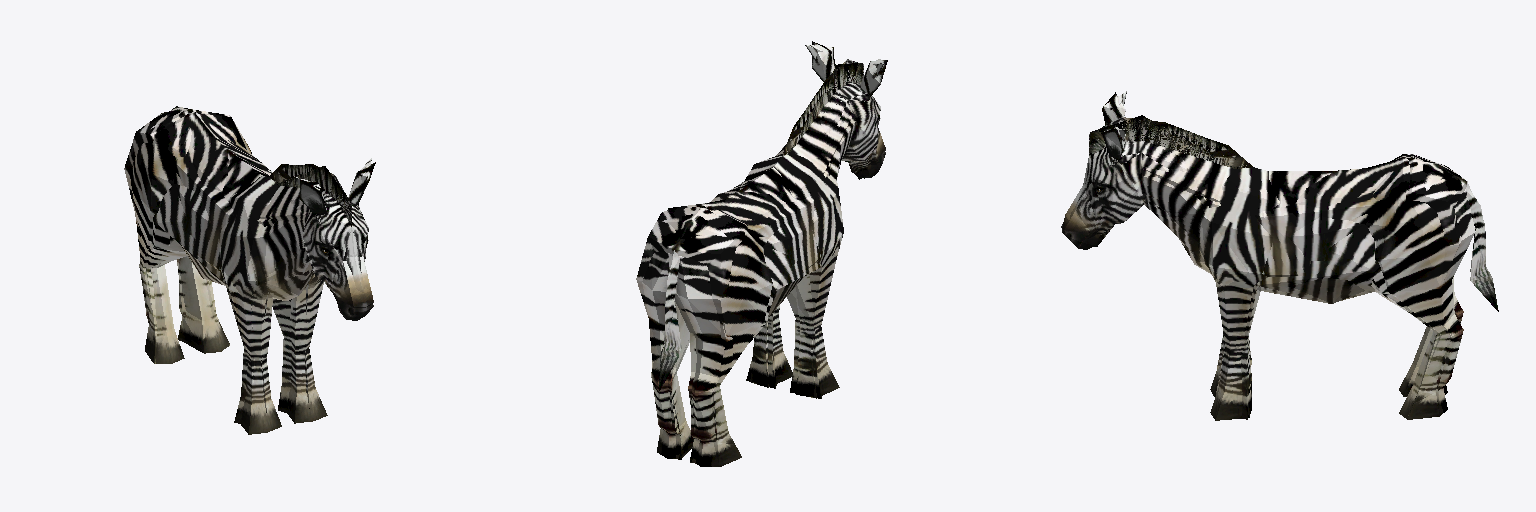
3 renders of one model, left to right at view 1: azimuth 30°, elevation 25°; view 2: azimuth 150°, elevation 25°; view 3: azimuth 270°, elevation 25°, orthographic.
Visible parts, largest first — view 1: Zebra_Adult_M_LOD0_0, Zebra_Adult_M_LOD2_0, Zebra_Adult_M_LOD1_0, Zebra_Adult_M_LOD0_1; view 2: Zebra_Adult_M_LOD0_0, Zebra_Adult_M_LOD1_0, Zebra_Adult_M_LOD2_0, Zebra_Adult_M_LOD0_1; view 3: Zebra_Adult_M_LOD0_0, Zebra_Adult_M_LOD2_0, Zebra_Adult_M_LOD1_0, Zebra_Adult_M_LOD0_1.
Boxes of the visible parts, box(x1,y1,x2,y2) form: Zebra_Adult_M_LOD0_0: box(130, 106, 375, 434); Zebra_Adult_M_LOD2_0: box(135, 150, 373, 423); Zebra_Adult_M_LOD1_0: box(124, 109, 369, 423); Zebra_Adult_M_LOD0_1: box(269, 164, 351, 225); Zebra_Adult_M_LOD0_0: box(642, 41, 887, 466); Zebra_Adult_M_LOD1_0: box(636, 63, 884, 463); Zebra_Adult_M_LOD2_0: box(649, 45, 885, 466); Zebra_Adult_M_LOD0_1: box(782, 59, 863, 154); Zebra_Adult_M_LOD0_0: box(1062, 92, 1498, 420); Zebra_Adult_M_LOD2_0: box(1061, 91, 1486, 419); Zebra_Adult_M_LOD1_0: box(1064, 119, 1490, 417); Zebra_Adult_M_LOD0_1: box(1089, 117, 1252, 168).
Bounding box in the file's own units: 0.7863 × 1.98 × 2.7.
1 materials, 1 textured.